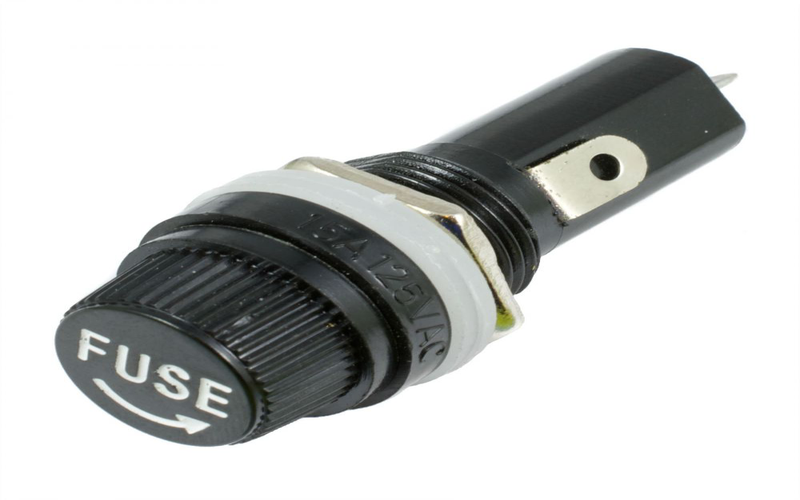Switches: (32, 29, 775, 454)
